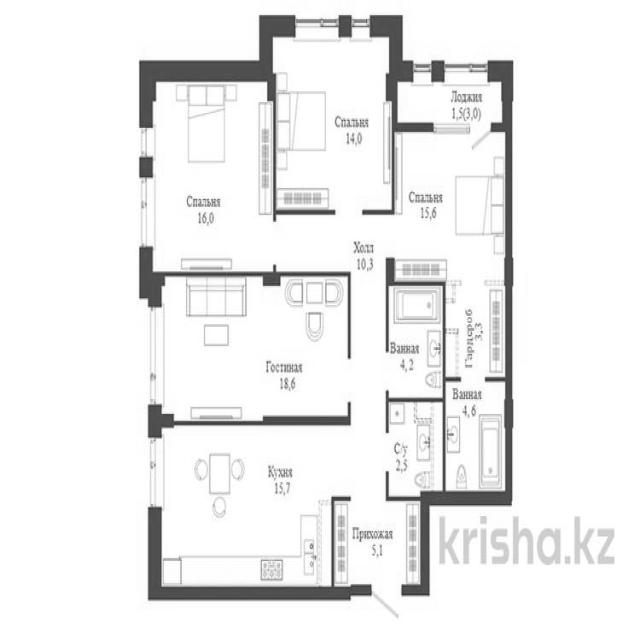balcony: (392, 66, 507, 120)
bathroom: (445, 381, 506, 497), (387, 283, 444, 402), (388, 403, 444, 496)
hallway: (347, 212, 387, 498), (334, 502, 426, 590)
kitchen: (156, 418, 333, 600)
living_room: (157, 270, 353, 424), (154, 68, 272, 275), (274, 22, 394, 210), (392, 132, 510, 283)
other: (446, 287, 508, 378)
